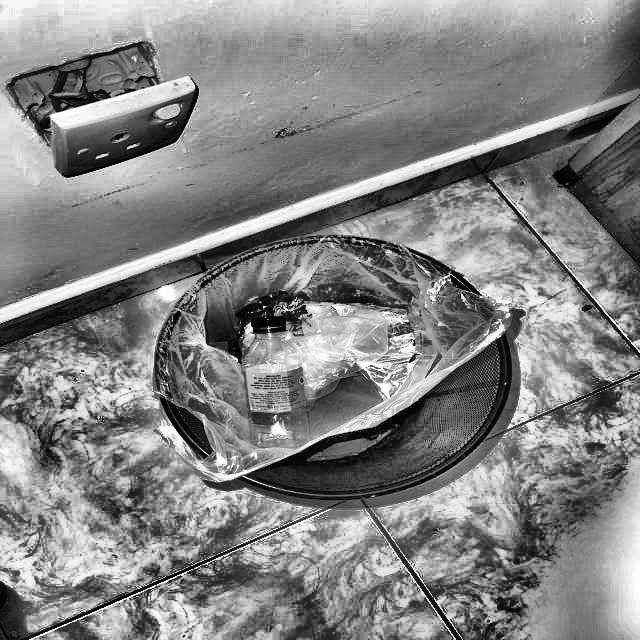Bottle-Disposed: (158, 236, 508, 504), (124, 198, 128, 198)
